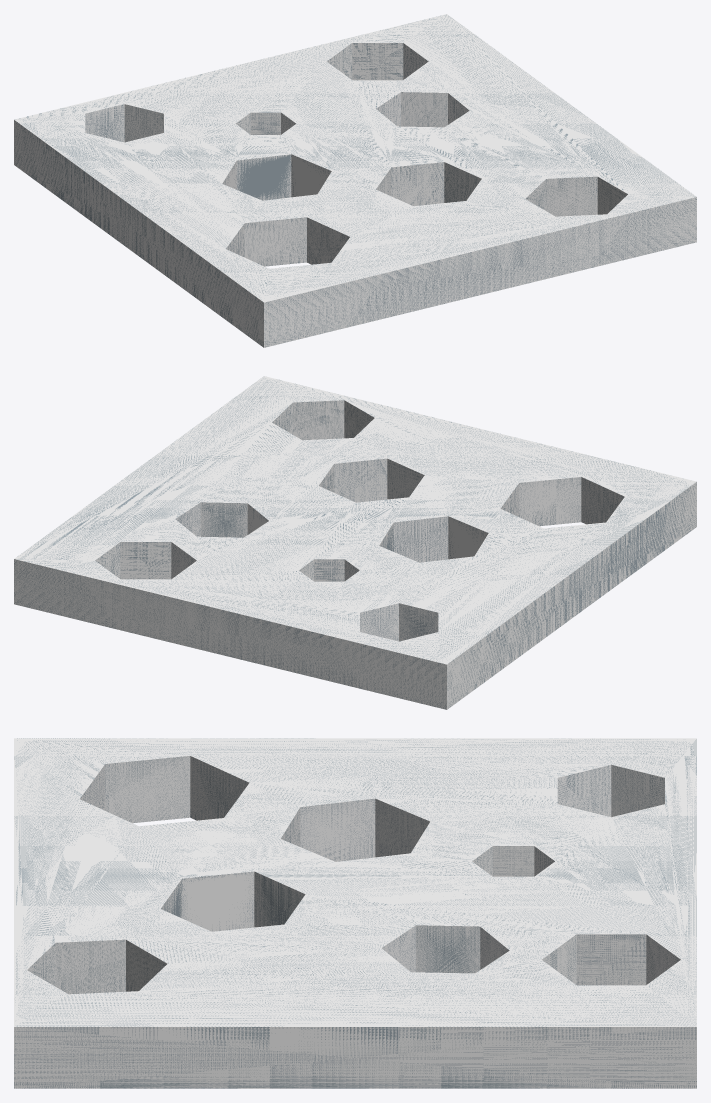
3 renders of one model, top to bottom at view 1: azimuth 30°, elevation 25°; view 2: azimuth 150°, elevation 25°; view 3: azimuth 270°, elevation 25°, orthographic. The views are drawn at different scales.
Visible parts, largest first — view 1: Model; view 2: Model; view 3: Model.
Part boxes in pixels (x1=…): Model: x1=14, y1=14, x2=696, y2=347; Model: x1=14, y1=376, x2=696, y2=709; Model: x1=14, y1=738, x2=696, y2=1088.
Bounding box in the file's own units: 5 × 0.5 × 5.
